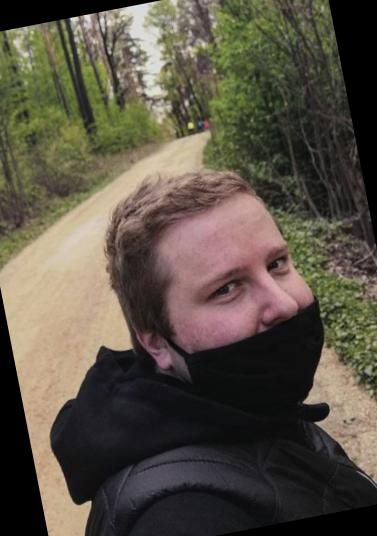mask_weared_incorrect: (144, 211, 340, 404)
